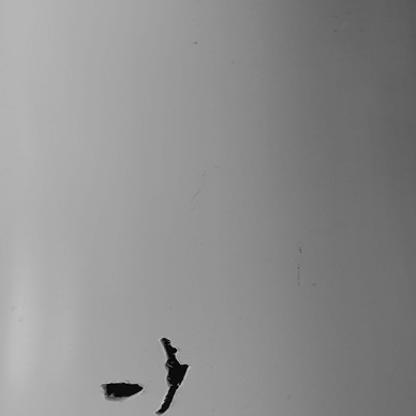kongdong: (152, 338, 192, 416), (101, 380, 143, 402)
